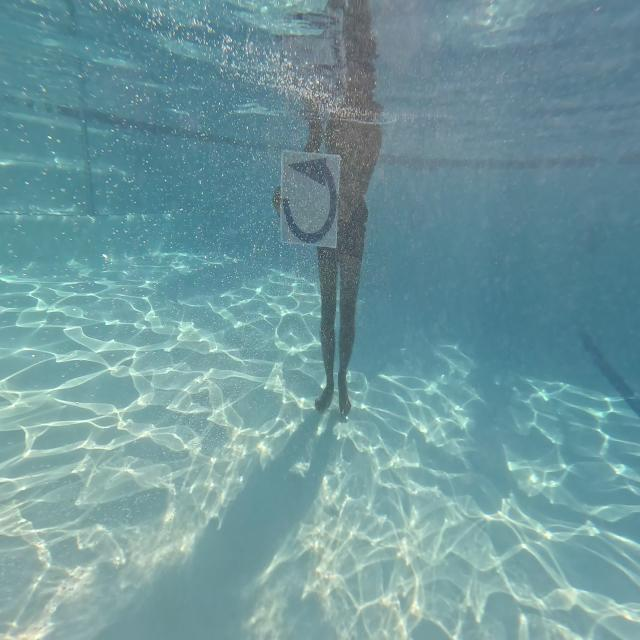blue_side: (279, 150, 339, 248)
